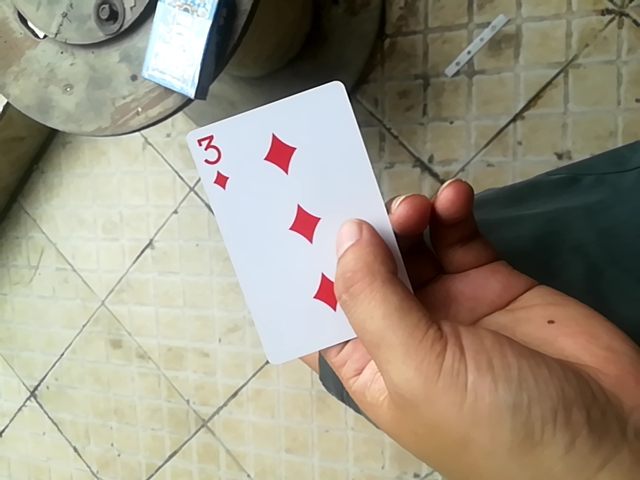fk 3: (182, 81, 401, 374)
